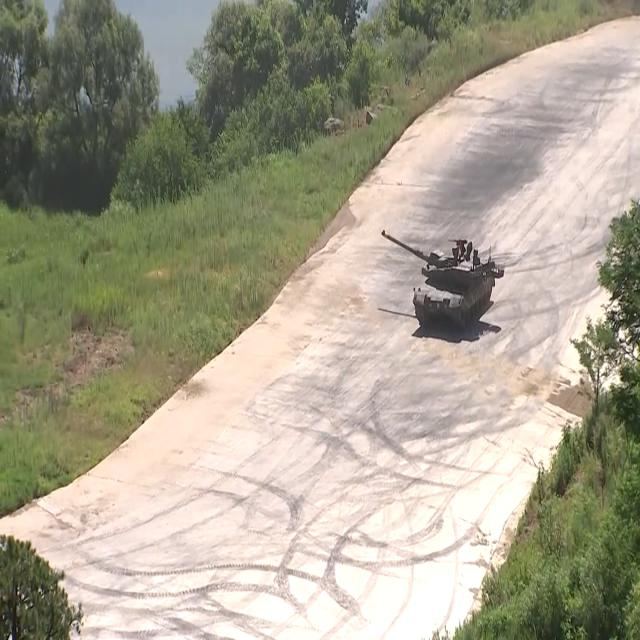korea tank: (378, 225, 504, 329)
